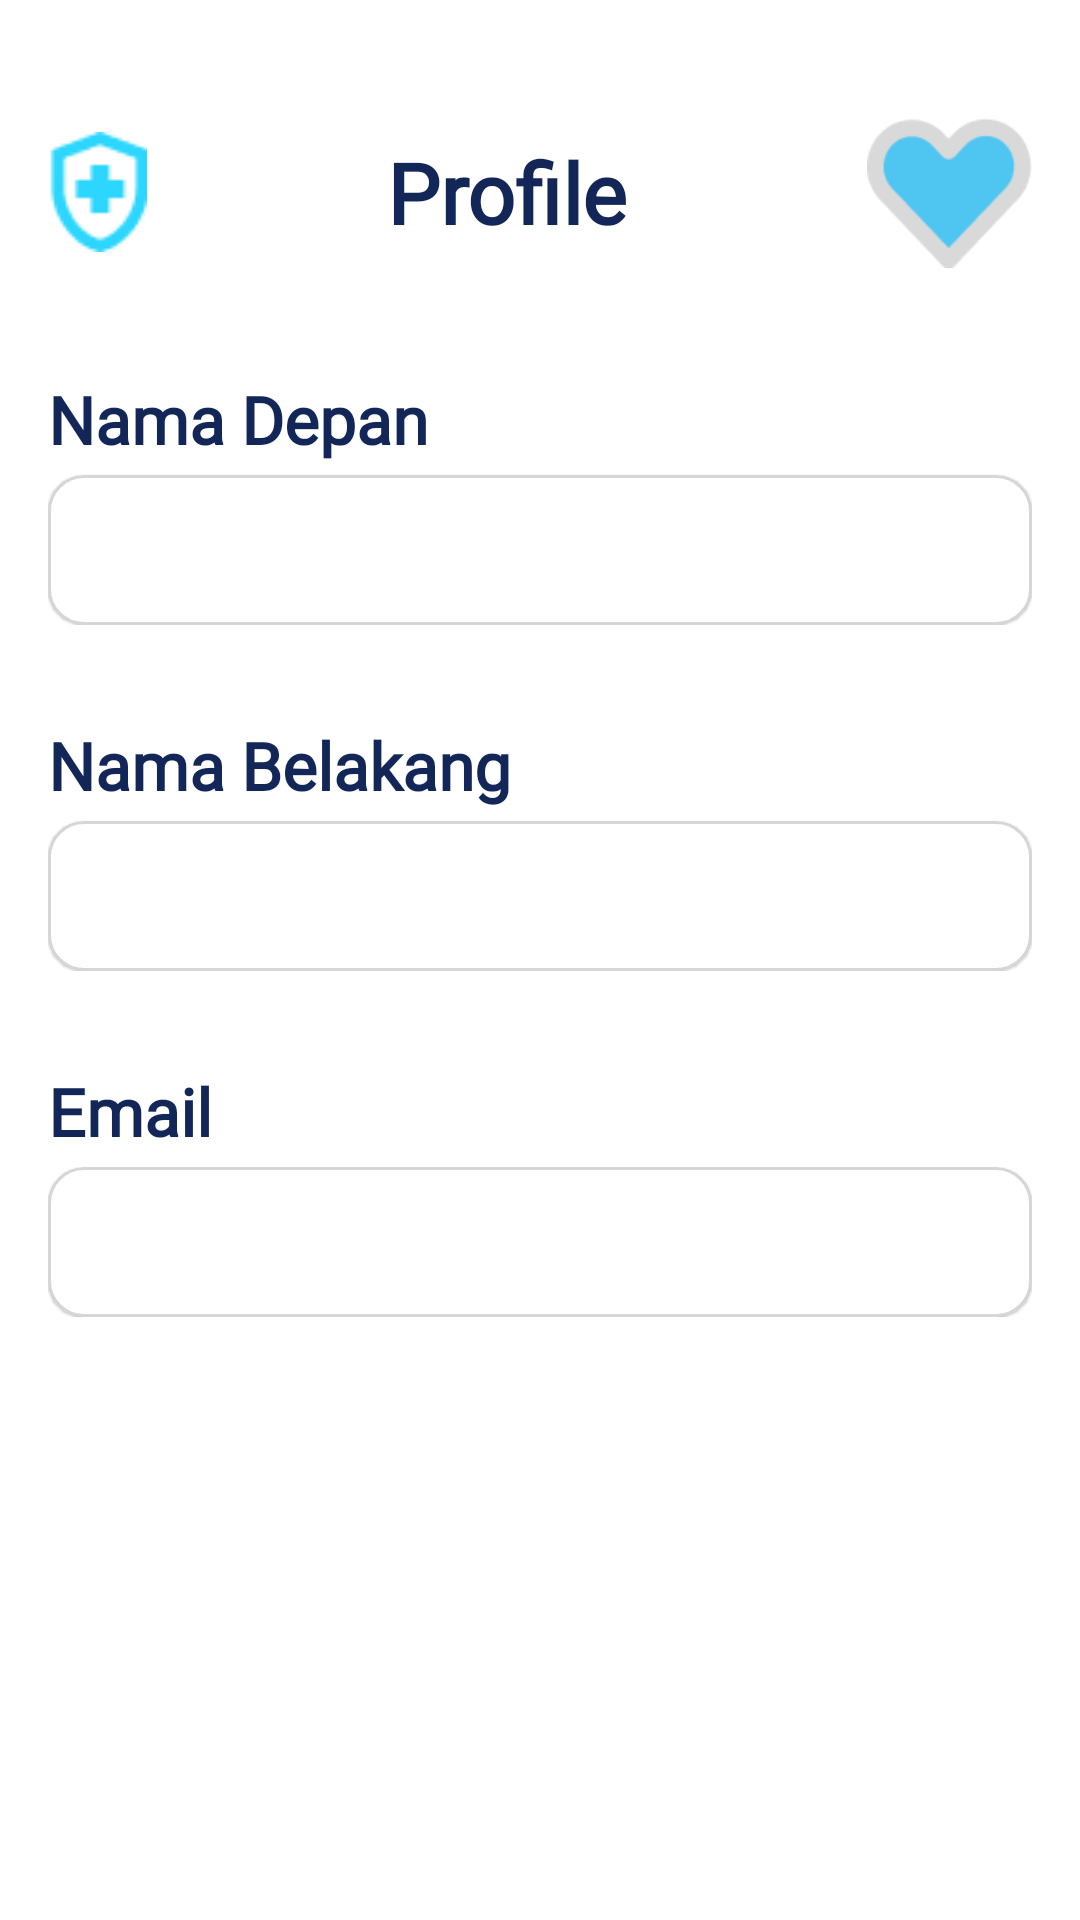

Named icons in this screenshot (1080×1920) and their bounding boxes, (x1, y1, x2, y2):
health: (50, 132, 147, 252)
love: (867, 120, 1030, 268)
